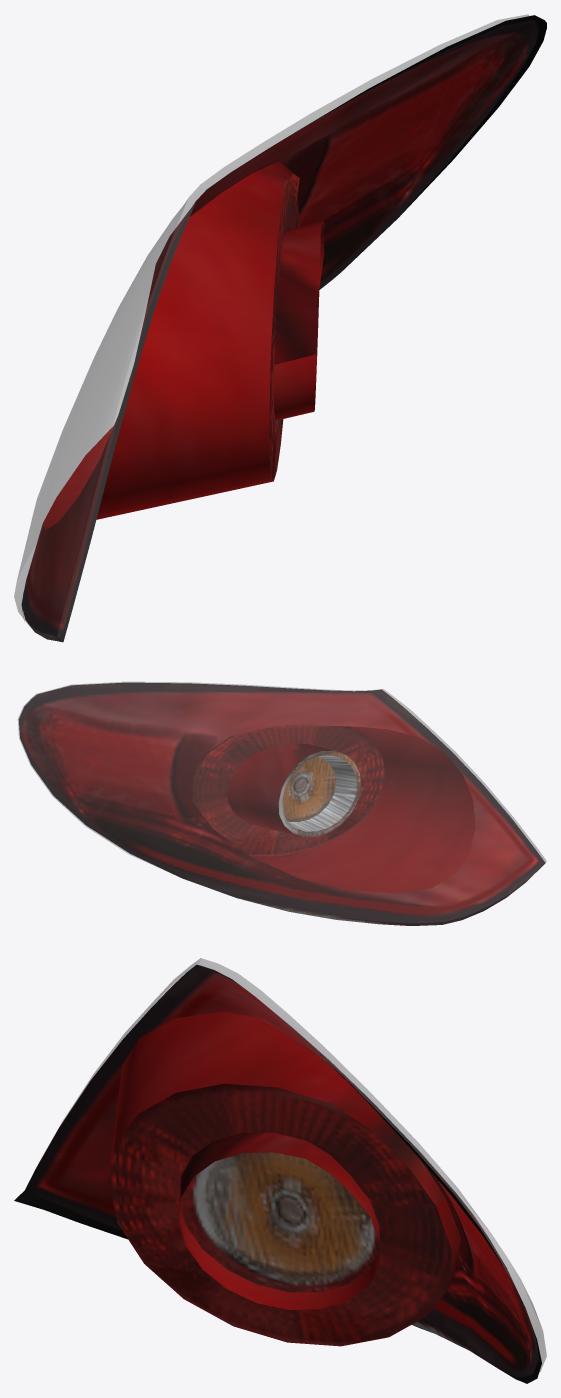
3 views of the same model, one above another, from view 1: azimuth 30°, elevation 25°; view 2: azimuth 150°, elevation 25°; view 3: azimuth 270°, elevation 25° (orthographic). The views are drawn at different scales.
Parts seen in each view (by area): view 1: _6139_18_541C_L__6139_18_541C_L_2_N, _6139_18_541C_L_1_DTaSI__6139_18_541C_L, _6139_18_541C_L__6139_18_541C_L_3_D; view 2: _6139_18_541C_L_1_DTaSI__6139_18_541C_L, _6139_18_541C_L__6139_18_541C_L_2_N; view 3: _6139_18_541C_L__6139_18_541C_L_2_N, _6139_18_541C_L_1_DTaSI__6139_18_541C_L, _6139_18_541C_L__6139_18_541C_L_3_D.
Boxes of the visible parts, x1,y1,x2,y2 form: _6139_18_541C_L__6139_18_541C_L_2_N: [21, 20, 538, 642]; _6139_18_541C_L_1_DTaSI__6139_18_541C_L: [14, 14, 529, 641]; _6139_18_541C_L__6139_18_541C_L_3_D: [22, 15, 546, 620]; _6139_18_541C_L_1_DTaSI__6139_18_541C_L: [17, 681, 546, 925]; _6139_18_541C_L__6139_18_541C_L_2_N: [18, 682, 545, 925]; _6139_18_541C_L__6139_18_541C_L_2_N: [25, 964, 538, 1377]; _6139_18_541C_L_1_DTaSI__6139_18_541C_L: [29, 958, 546, 1371]; _6139_18_541C_L__6139_18_541C_L_3_D: [14, 1055, 541, 1383].
Bounding box in the file's own units: 40.41 × 20.47 × 24.88.
